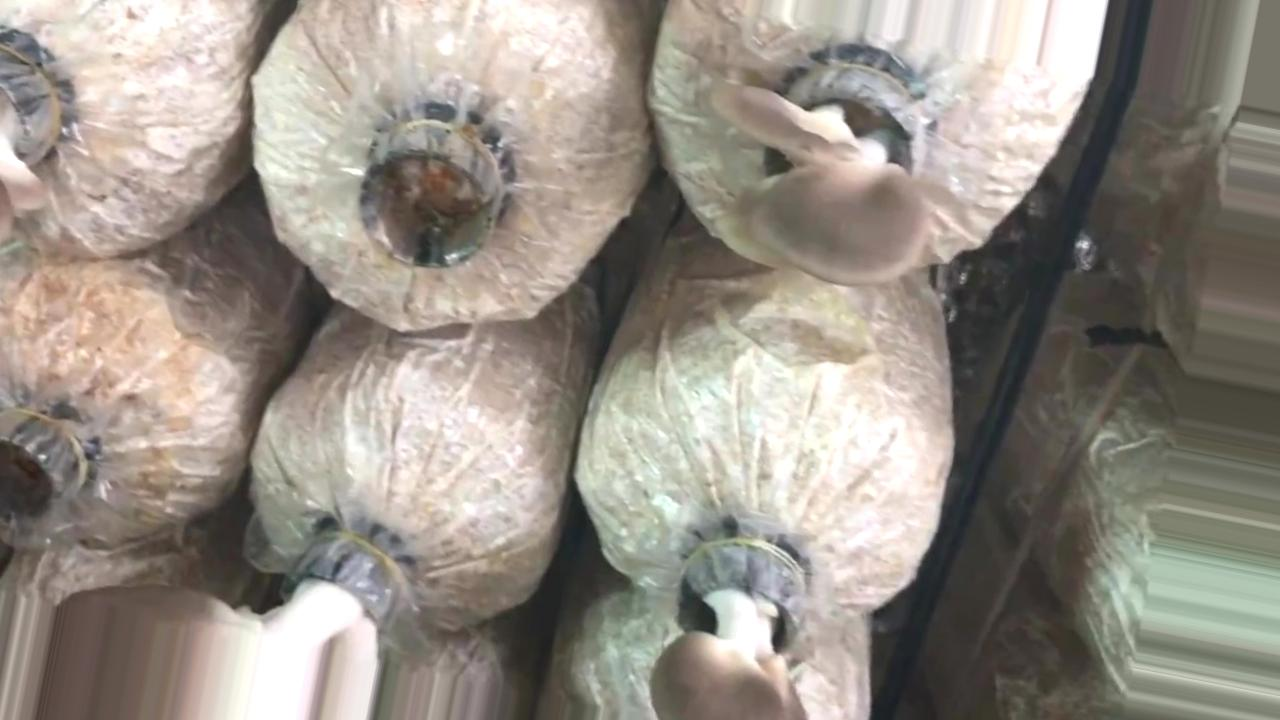nam: (37, 525, 424, 720), (711, 41, 930, 285), (650, 530, 816, 720)
